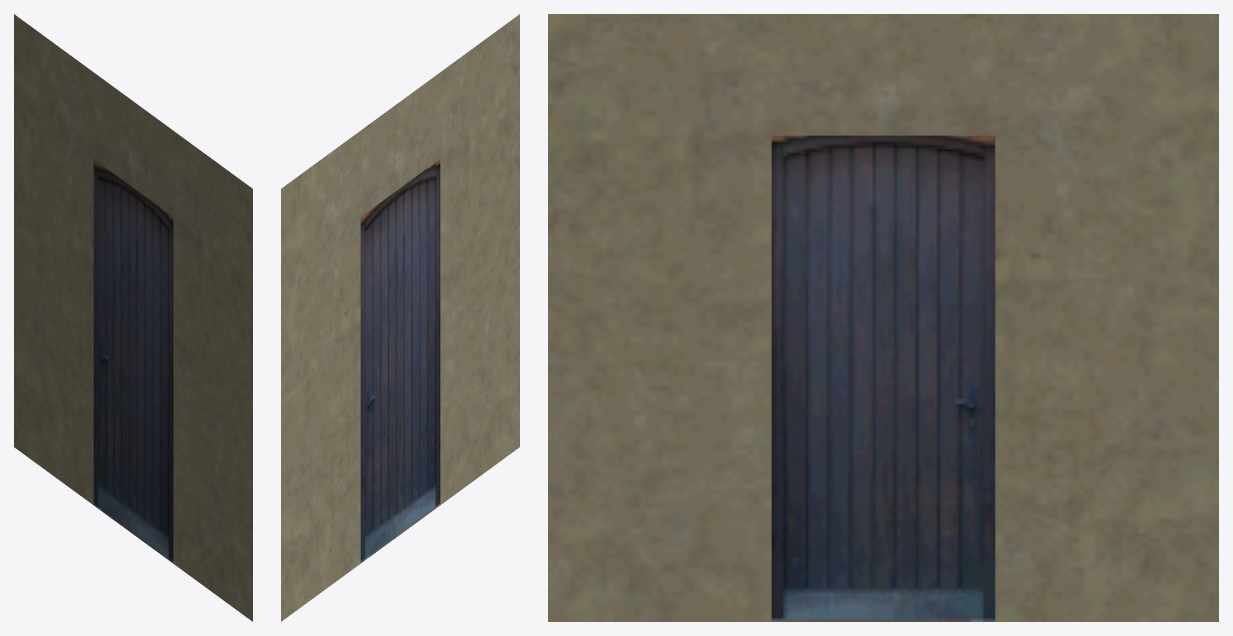
File: Urban_StucoWallDoor_Model.fbx
3 renders of one model, left to right at view 1: azimuth 30°, elevation 25°; view 2: azimuth 150°, elevation 25°; view 3: azimuth 270°, elevation 25°, orthographic. The views are drawn at different scales.
Parts seen in each view (by area): view 1: Urban_StucoWallDoor_Mesh; view 2: Urban_StucoWallDoor_Mesh; view 3: Urban_StucoWallDoor_Mesh.
Part boxes in pixels (bbox=[...]): Urban_StucoWallDoor_Mesh: bbox=[14, 14, 252, 621]; Urban_StucoWallDoor_Mesh: bbox=[281, 14, 519, 621]; Urban_StucoWallDoor_Mesh: bbox=[548, 14, 1218, 621].
Bounding box in the file's own units: 0 × 2.1 × 2.1.
